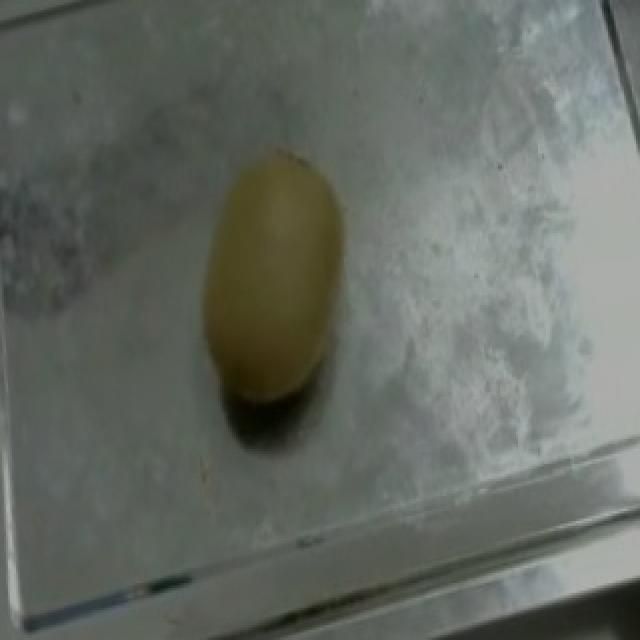Fruit: (170, 127, 386, 429)
